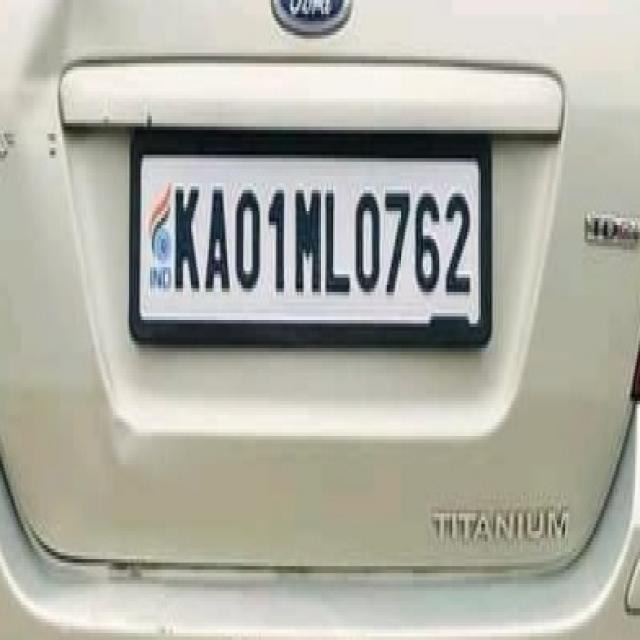0: (232, 173, 263, 303), (353, 179, 383, 299)
1: (262, 179, 292, 306)
6: (411, 176, 442, 306)
7: (383, 179, 412, 310)
A: (203, 175, 233, 302)
K: (168, 173, 203, 300)
L: (323, 174, 353, 300)
M: (292, 175, 324, 307)
